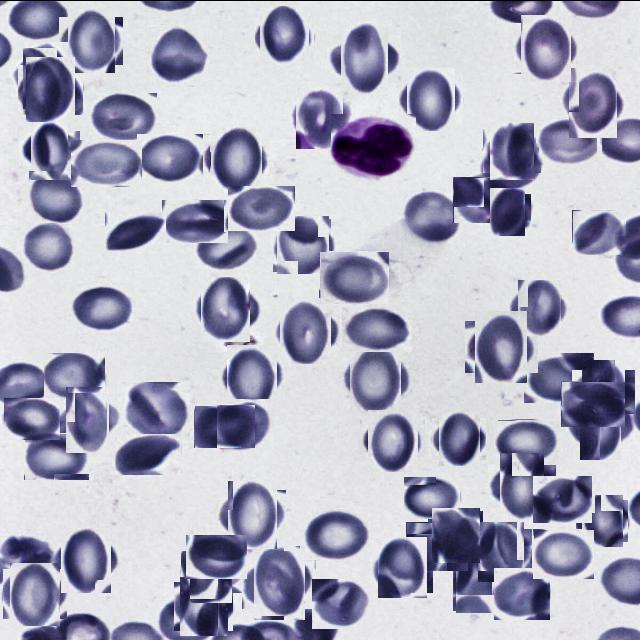leukocyte: (331, 113, 416, 177)
red blood cell: (248, 550, 310, 614), (470, 314, 532, 378), (122, 381, 190, 439), (334, 27, 396, 89), (345, 347, 406, 409), (320, 250, 390, 303), (300, 507, 370, 559), (222, 484, 282, 544), (147, 25, 207, 85), (207, 130, 266, 190), (524, 352, 594, 402), (516, 18, 575, 77), (276, 300, 334, 360), (564, 72, 622, 132), (71, 140, 142, 188), (89, 92, 157, 142), (197, 280, 255, 338), (224, 347, 282, 405), (57, 530, 115, 588), (6, 564, 64, 622), (398, 189, 460, 243), (137, 133, 203, 183), (22, 61, 79, 118), (72, 282, 136, 332), (365, 412, 422, 468), (342, 306, 412, 351), (535, 117, 602, 164), (454, 555, 510, 611), (63, 12, 119, 68), (403, 70, 459, 126), (494, 457, 550, 513), (18, 47, 74, 103), (274, 217, 330, 272), (292, 89, 348, 144), (24, 432, 89, 479), (533, 528, 594, 578), (406, 521, 468, 570), (59, 392, 115, 446), (228, 185, 295, 230), (494, 418, 559, 464), (375, 540, 430, 594), (574, 399, 628, 454), (161, 198, 228, 242), (561, 380, 625, 426), (44, 352, 105, 400), (258, 8, 312, 62), (474, 524, 528, 578), (29, 170, 85, 222), (494, 567, 550, 619), (312, 578, 370, 628), (177, 578, 230, 632), (577, 364, 630, 418), (196, 224, 258, 270), (533, 475, 592, 522), (115, 434, 181, 476), (453, 176, 513, 222), (185, 546, 238, 598), (429, 508, 482, 560), (217, 398, 272, 448), (193, 404, 256, 447), (22, 220, 74, 272), (186, 534, 247, 578), (487, 124, 538, 176), (481, 145, 539, 189), (514, 282, 564, 332), (24, 124, 74, 174), (105, 210, 167, 250), (403, 475, 460, 518), (572, 209, 626, 254), (4, 397, 60, 439), (435, 414, 483, 462), (578, 496, 626, 544), (486, 190, 528, 232)
